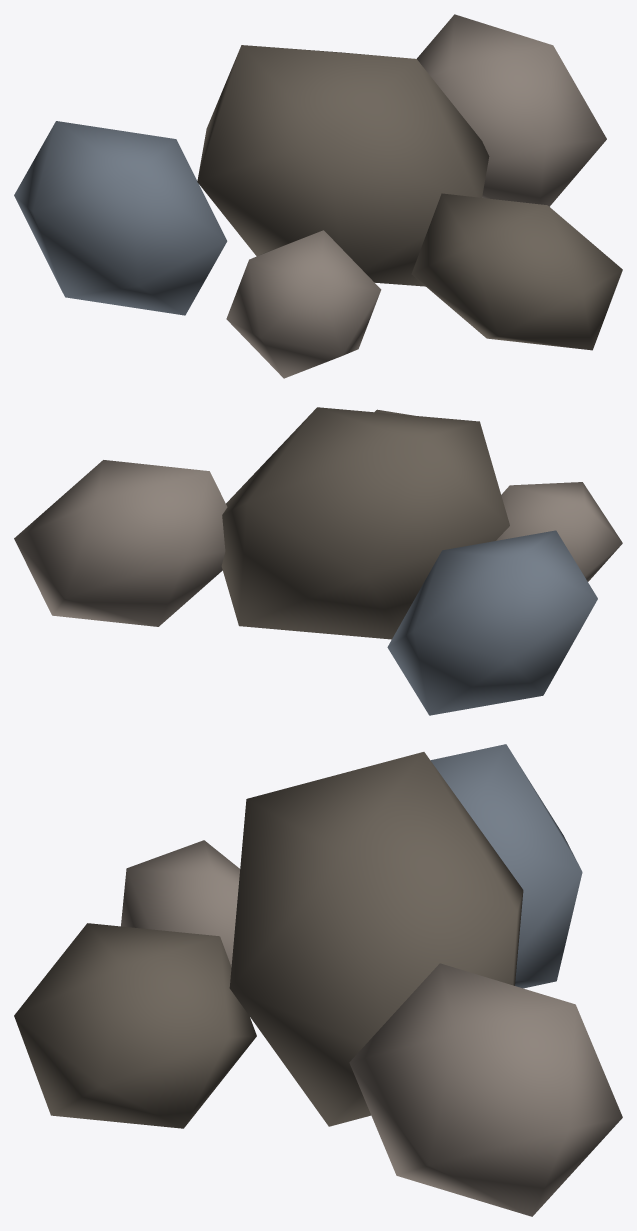
File: stone.glb
3 views of the same model, one above another, from view 1: azimuth 30°, elevation 25°; view 2: azimuth 150°, elevation 25°; view 3: azimuth 270°, elevation 25° (orthographic). The views are drawn at different scales.
Visible parts, largest first — view 1: peb0, peb2, peb3, peb1, peb4; view 2: peb0, peb2, peb1, peb4; view 3: peb0, peb1, peb3, peb2, peb4.
Boxes of the visible parts, box(x1,y1,x2,y2) form: peb0: box(197, 45, 489, 286); peb2: box(14, 121, 227, 315); peb3: box(411, 193, 622, 350); peb1: box(417, 14, 606, 206); peb4: box(226, 230, 381, 378); peb0: box(221, 407, 509, 639); peb2: box(387, 530, 597, 715); peb1: box(14, 460, 227, 626); peb4: box(496, 482, 622, 581); peb0: box(229, 752, 523, 1126); peb1: box(349, 963, 622, 1216); peb3: box(14, 923, 256, 1128); peb2: box(430, 744, 582, 988); peb4: box(121, 840, 240, 966).
Size of the model in its own units: 0.3449 by 0.146 by 0.2779.
